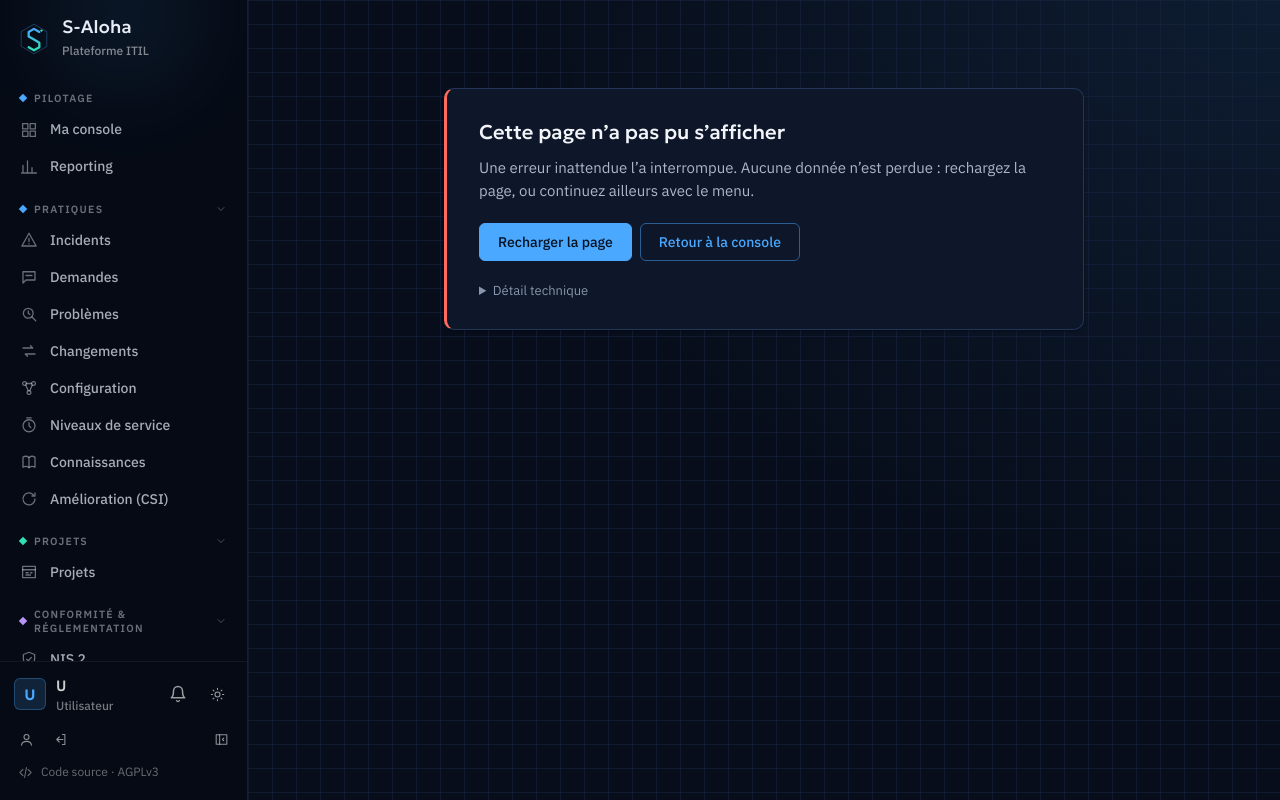
Test case: une page qui plante affiche un message, la navigation reste là, et changer de page réarme la garde
Expected: the heading "Cette page n’a pas pu s’afficher" is shown, [479, 119, 785, 145]
Step 1. Click the link "Reporting" → (66, 167), box [20, 157, 113, 176]
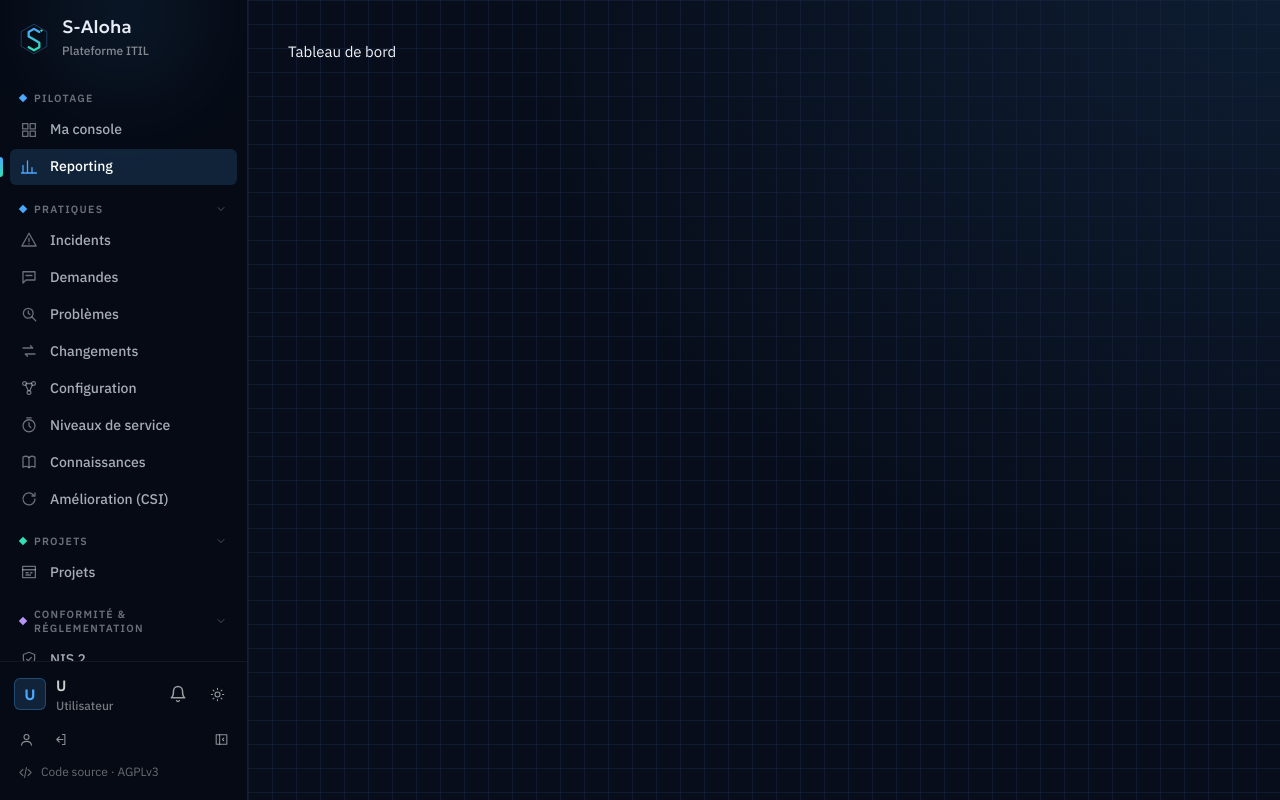
Expected: the message is gone
Expected: the text "Tableau de bord" is shown, [288, 42, 396, 61]
